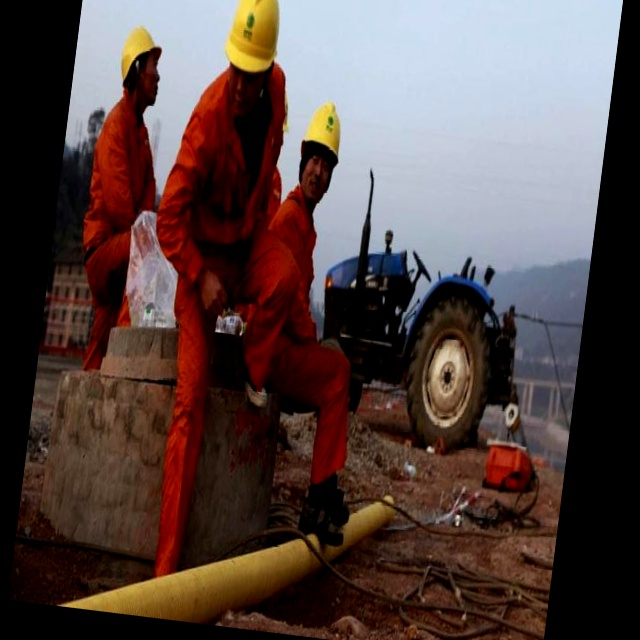Con_Casco: (217, 0, 287, 108)
